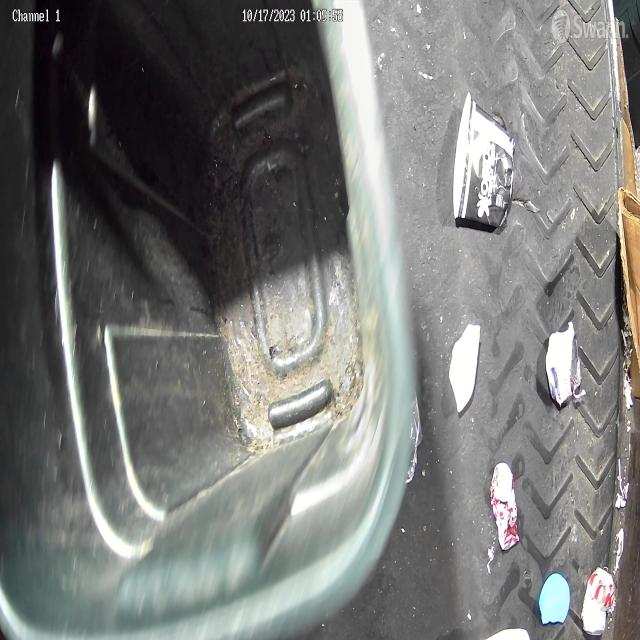can: (490, 462, 521, 552), (582, 564, 619, 636), (546, 328, 580, 404)
